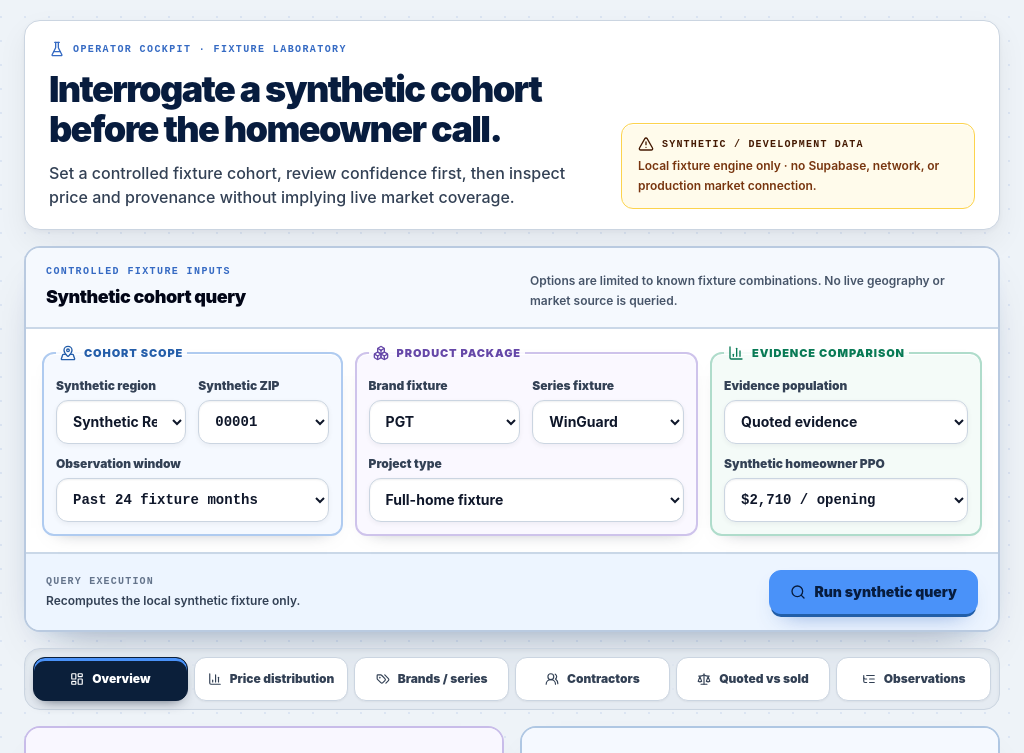
Test: OracleDashboardSurface › switches tabs without mounting production routes
Click the tab "Contractors" at [592, 678], box top-left (515, 656), bottom-right (670, 700)
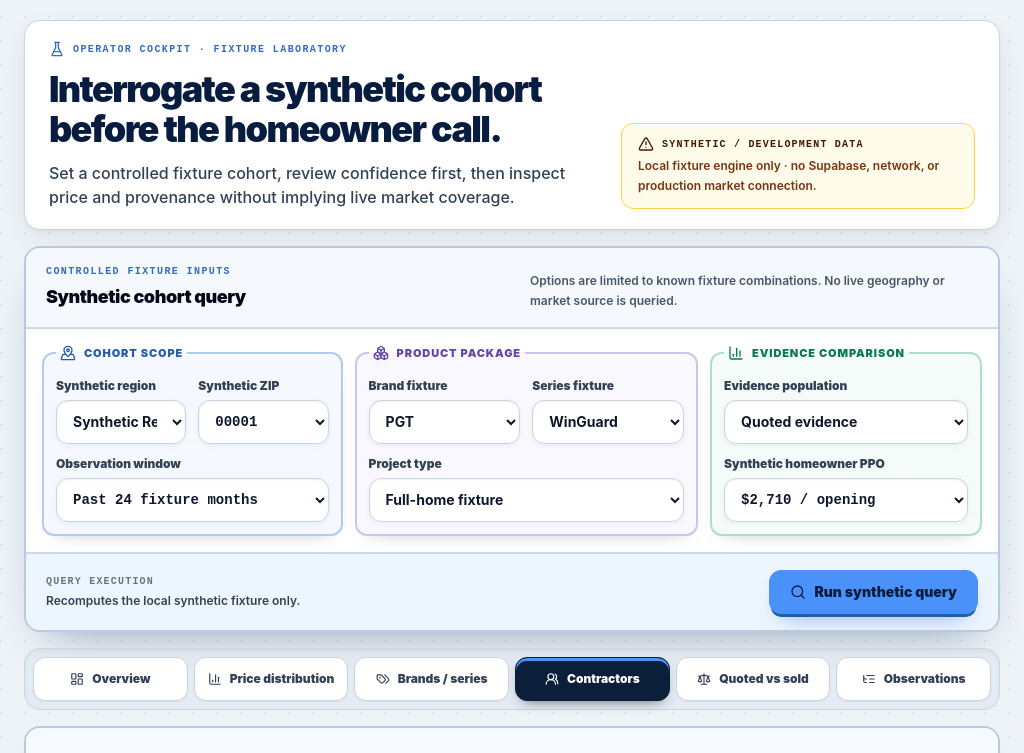
Check: the tab "Contractors" is selected, box top-left (515, 656), bottom-right (670, 700)
Click the tab "Quoted vs sold" at [753, 678], box top-left (676, 656), bottom-right (830, 700)
(page scrolled)
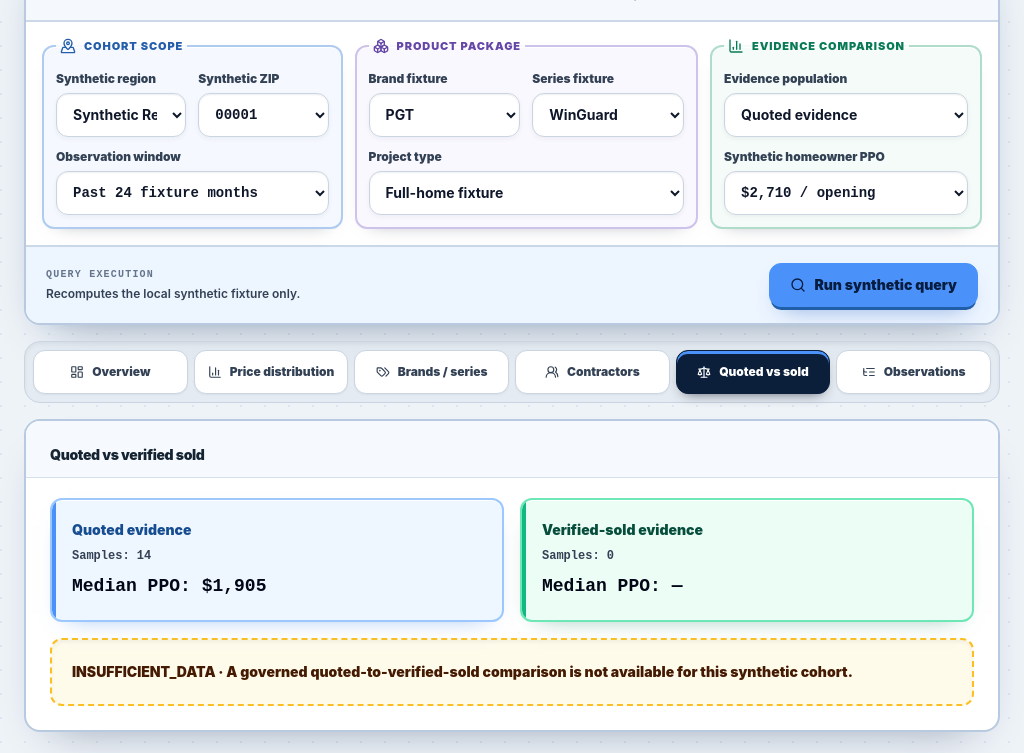
Check: the element with test id "oracle-quoted-vs-sold" is shown, box top-left (24, 418), bottom-right (1000, 732)
Check: the element with test id "oracle-quoted-vs-sold" shows "INSUFFICIENT_DATA", box top-left (72, 662), bottom-right (853, 680)
